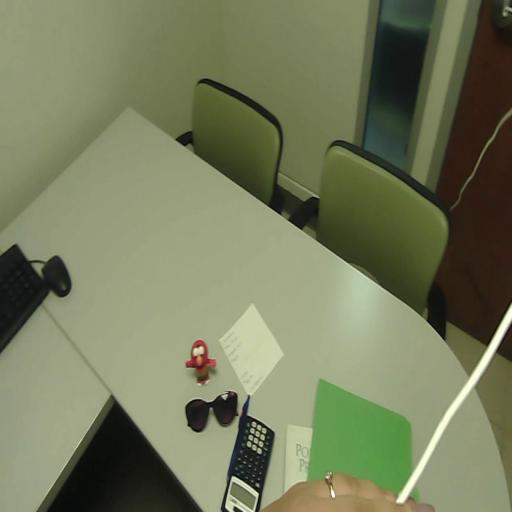pen: (228, 395, 250, 479)
